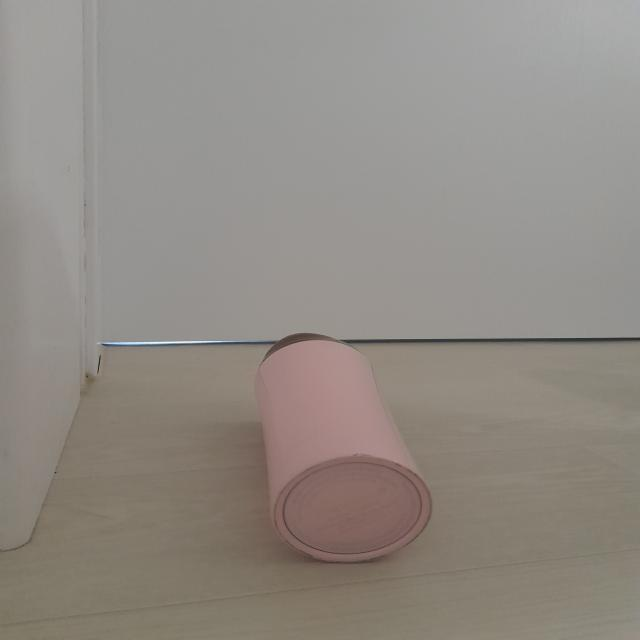waterbottle: (254, 330, 434, 570)
